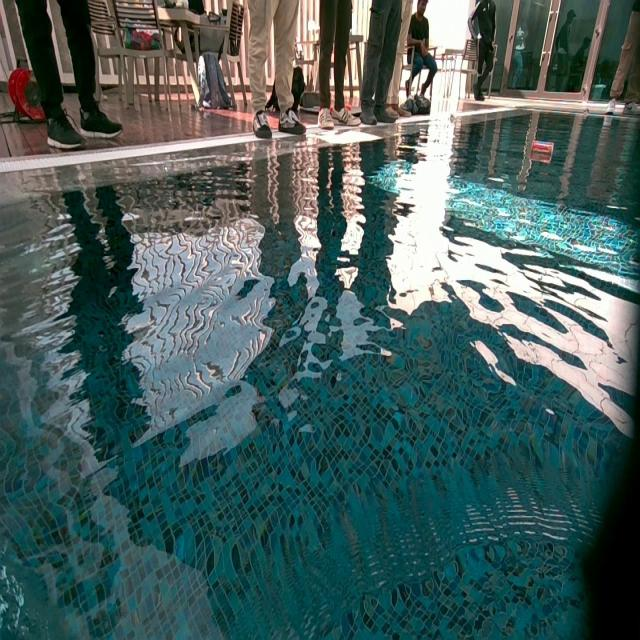Cans: (531, 140, 552, 160)
